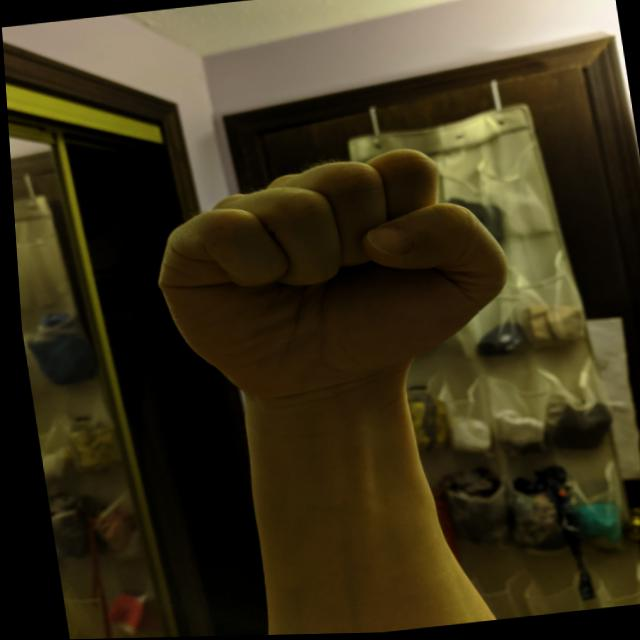S: (128, 135, 527, 411)
